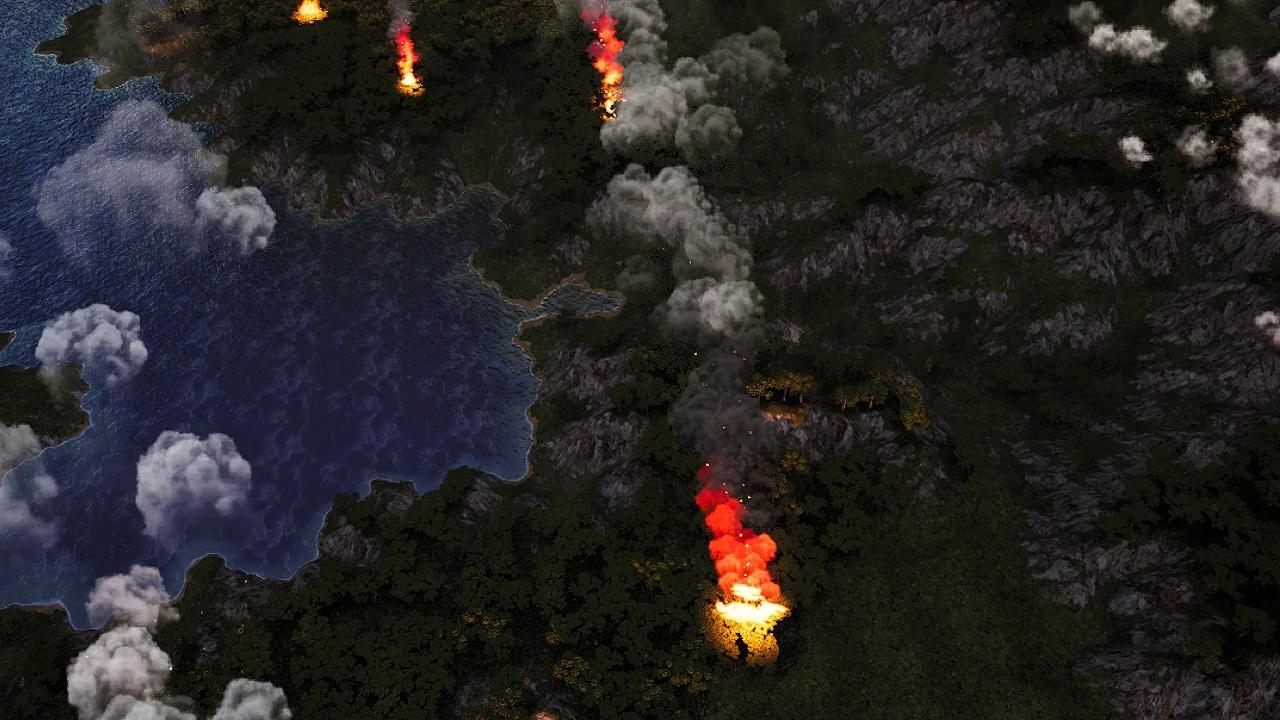fire: (694, 489, 790, 658), (584, 16, 623, 119), (393, 30, 426, 91), (294, 0, 325, 22)
smoke: (582, 0, 798, 484), (34, 92, 283, 278), (1065, 0, 1280, 210), (70, 562, 302, 720), (136, 423, 263, 548), (35, 295, 152, 408), (0, 421, 82, 563)
